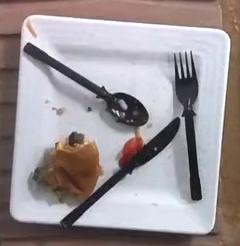burger: (33, 132, 103, 199)
